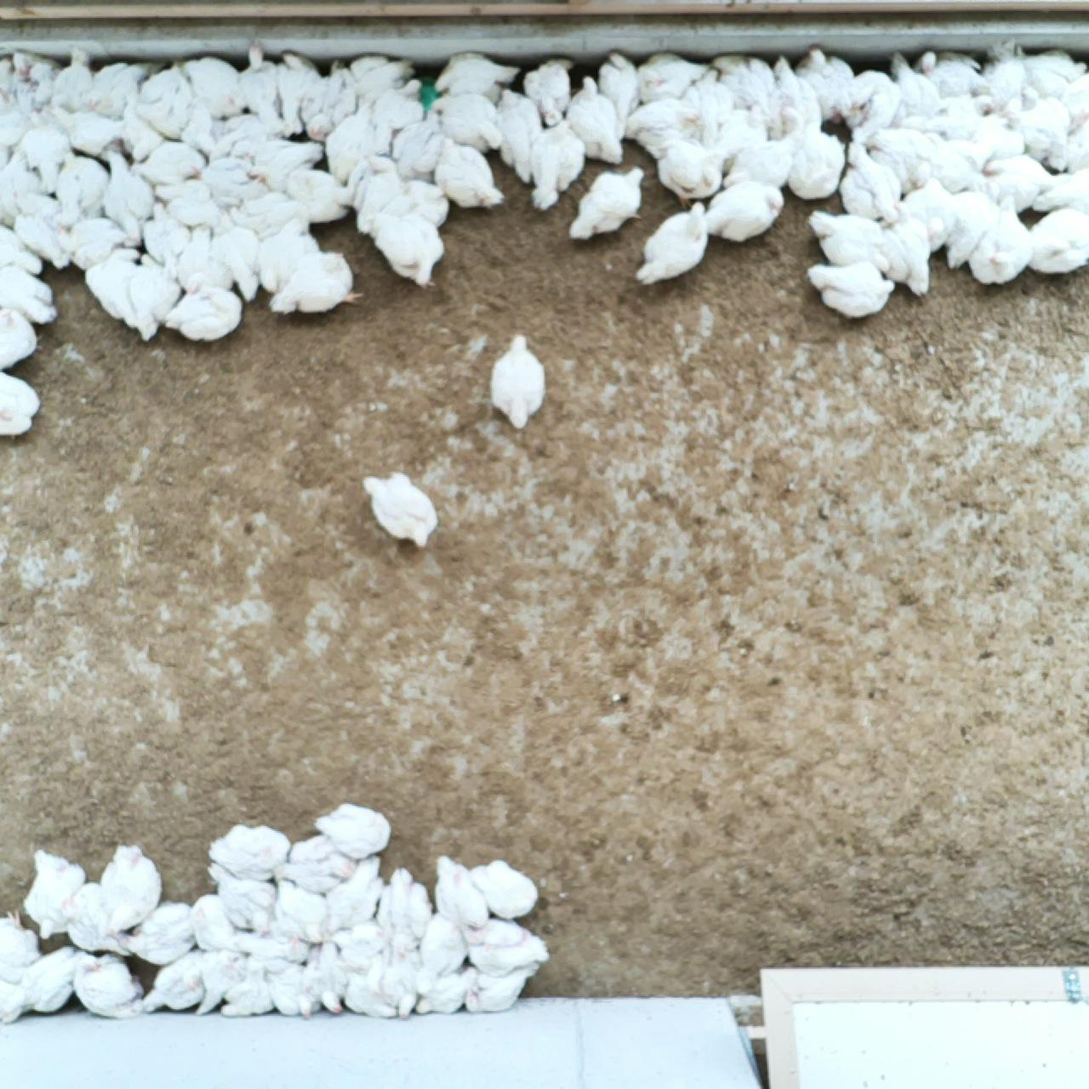chicken: (374, 193, 452, 290), (359, 467, 445, 549), (712, 50, 785, 143), (633, 198, 710, 286), (95, 844, 168, 936), (966, 192, 1034, 287), (4, 185, 78, 271), (489, 332, 553, 431), (566, 165, 647, 243), (267, 250, 364, 315), (20, 850, 88, 941), (646, 136, 726, 211), (877, 199, 936, 300), (864, 120, 935, 203), (802, 257, 897, 319), (804, 207, 890, 275), (525, 118, 586, 213), (256, 215, 324, 298), (434, 137, 509, 212), (563, 75, 624, 166), (701, 178, 785, 244), (160, 274, 243, 340), (117, 900, 200, 966), (206, 821, 291, 885), (100, 147, 156, 244), (62, 880, 129, 961), (277, 834, 363, 897), (207, 210, 264, 305), (134, 948, 216, 1014), (205, 863, 278, 937), (68, 952, 145, 1022), (20, 100, 76, 196), (9, 944, 83, 1016), (793, 44, 857, 127), (433, 48, 521, 108), (237, 44, 291, 141), (782, 123, 848, 202), (44, 150, 106, 234), (841, 64, 903, 148), (840, 138, 900, 224), (762, 57, 824, 140), (324, 851, 389, 930), (425, 92, 505, 155), (1003, 86, 1069, 162), (968, 35, 1030, 115), (624, 101, 705, 162), (377, 867, 435, 952), (915, 129, 987, 197), (959, 96, 1026, 169), (146, 175, 230, 233), (302, 58, 360, 142), (431, 853, 492, 932), (496, 87, 544, 187), (942, 188, 999, 272), (464, 919, 549, 975), (343, 147, 397, 235), (315, 801, 394, 861), (720, 130, 795, 193), (898, 174, 956, 255), (135, 60, 193, 140), (46, 101, 130, 156), (470, 857, 542, 920), (54, 217, 136, 272), (1023, 211, 1089, 279), (84, 244, 142, 321), (180, 58, 252, 120), (332, 922, 394, 994), (412, 910, 466, 992), (174, 222, 233, 297), (87, 56, 152, 124), (324, 98, 376, 183), (192, 942, 250, 1018), (463, 959, 539, 1017), (373, 77, 427, 158), (0, 145, 53, 227), (250, 137, 326, 194), (983, 155, 1058, 212), (390, 110, 446, 186), (636, 48, 709, 106), (711, 102, 769, 175), (278, 169, 352, 226), (681, 65, 735, 143), (521, 56, 578, 129), (125, 254, 177, 334), (908, 48, 988, 100), (272, 48, 320, 134), (228, 190, 307, 242), (917, 92, 996, 144), (374, 932, 422, 1017), (195, 153, 268, 208), (347, 51, 413, 111), (7, 52, 63, 122), (304, 941, 354, 1017), (596, 47, 650, 117), (271, 877, 328, 943), (46, 46, 103, 111), (886, 52, 940, 120), (219, 960, 283, 1017), (412, 964, 479, 1018), (140, 201, 188, 276), (1020, 45, 1089, 97), (0, 266, 60, 323), (0, 909, 45, 985), (191, 891, 246, 953), (0, 369, 46, 442), (379, 180, 452, 226), (268, 959, 323, 1019), (131, 140, 205, 184), (244, 919, 309, 966), (206, 112, 269, 160), (178, 96, 227, 155), (339, 968, 396, 1017), (0, 305, 43, 369), (1033, 167, 1089, 215), (0, 223, 47, 278), (115, 100, 158, 155), (0, 78, 30, 149), (1058, 69, 1089, 131), (0, 969, 32, 1028), (1063, 118, 1089, 181)
